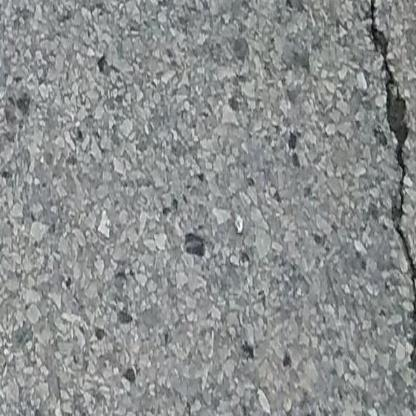Cracks: (358, 0, 416, 416)
